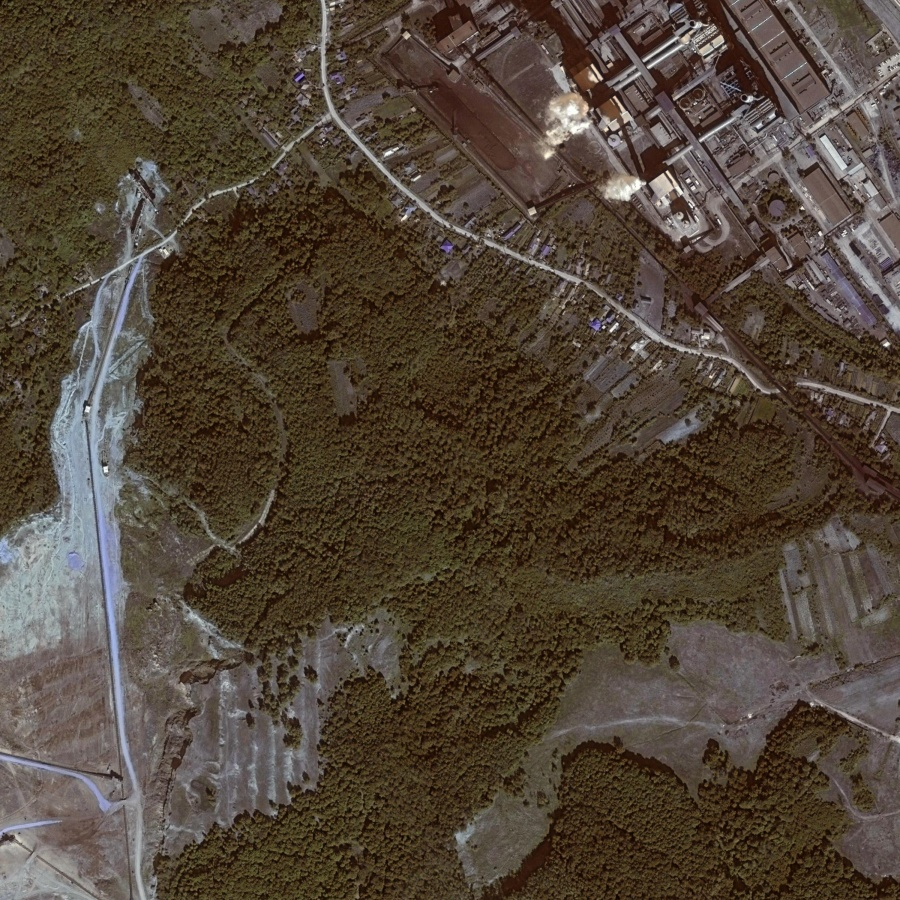PowerPlant: (429, 1, 644, 230)
